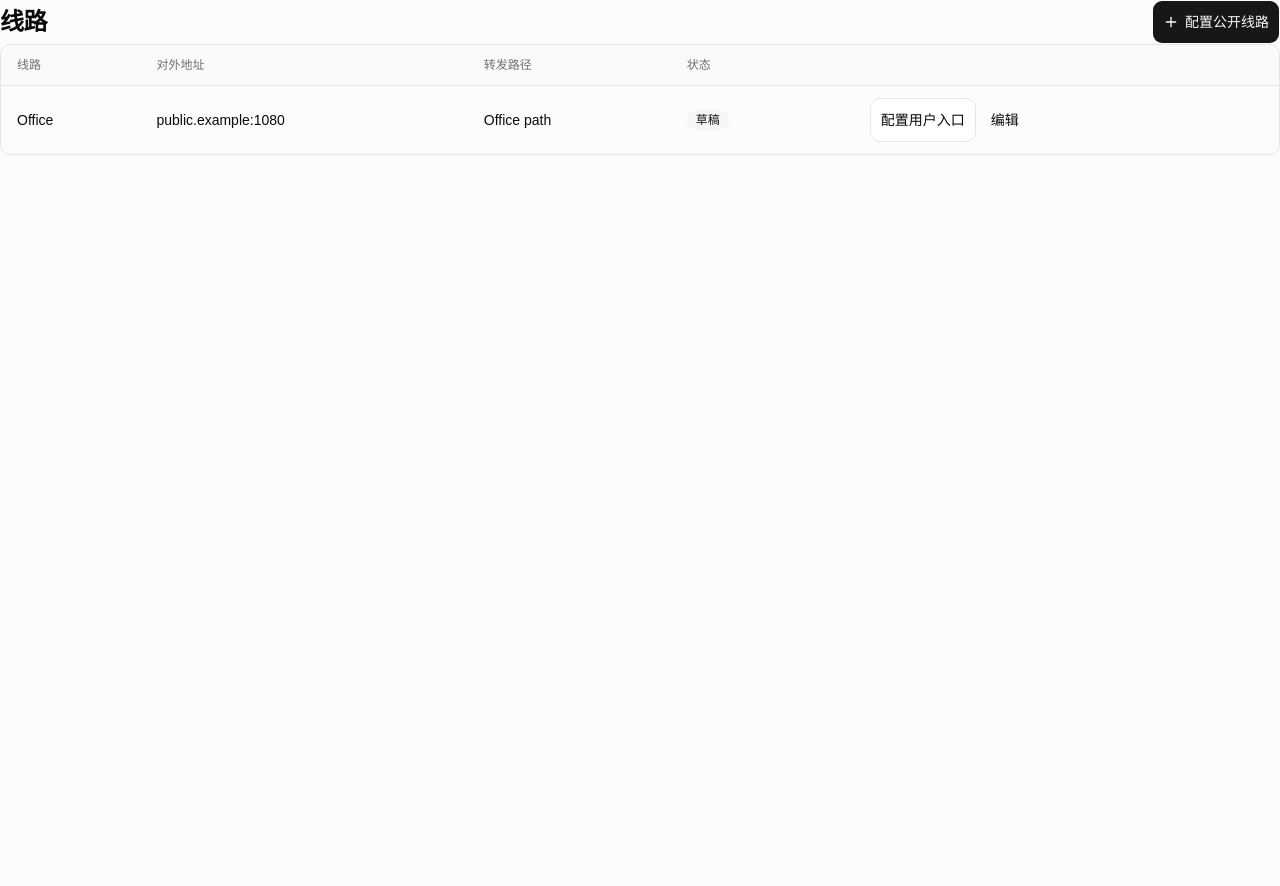
limits public-path selection to its deployment and blocks an unfinished server change after preview
Click the button "编辑". click: coordinates (1005, 120)
box: [980, 98, 1030, 142]
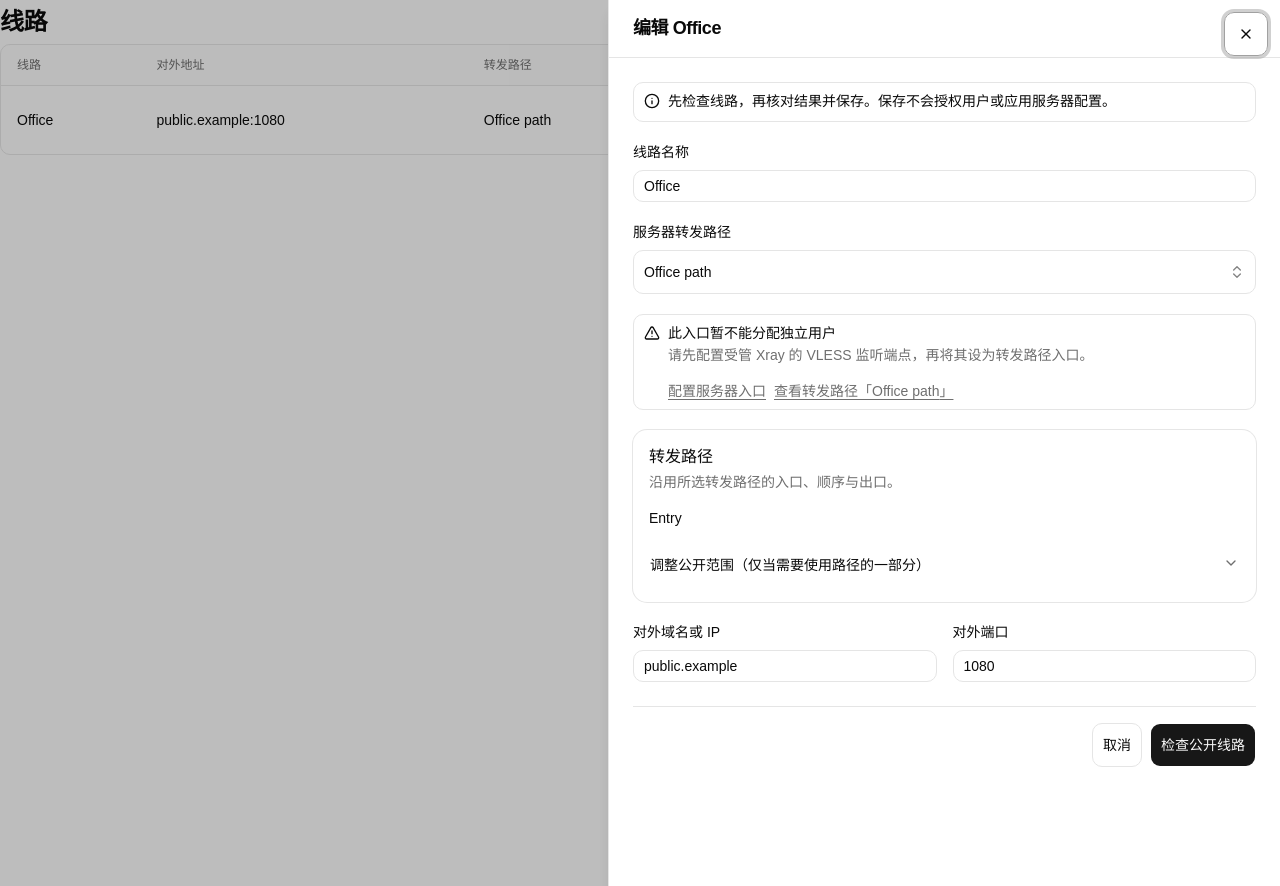
Click the button "检查公开线路". click: coordinates (1203, 745)
box: [1150, 723, 1256, 767]
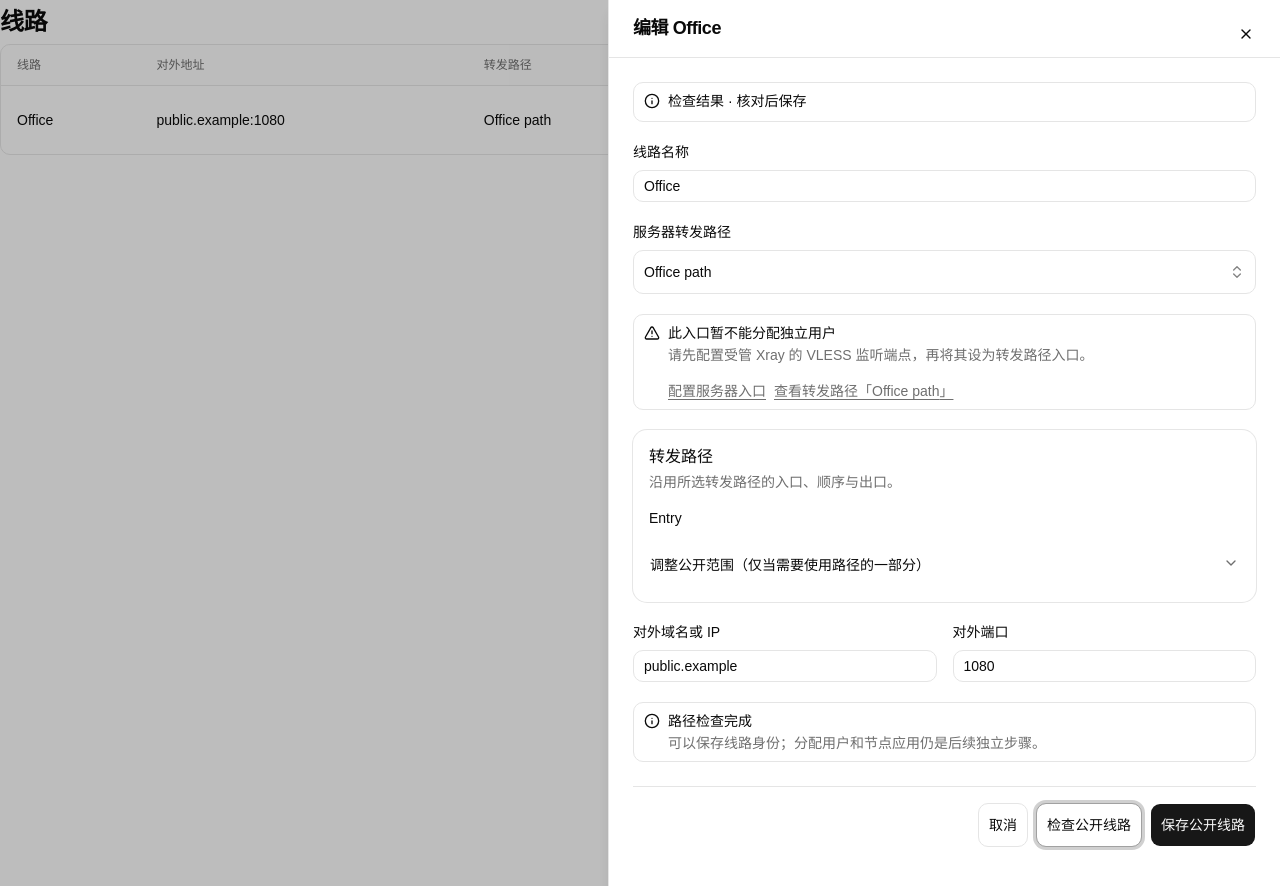
Expected: the button "保存公开线路" is enabled, [1150, 803, 1256, 847]
Click the button "调整公开范围（仅当需要使用路径的一部分）". click: coordinates (790, 565)
box: [649, 544, 1240, 586]
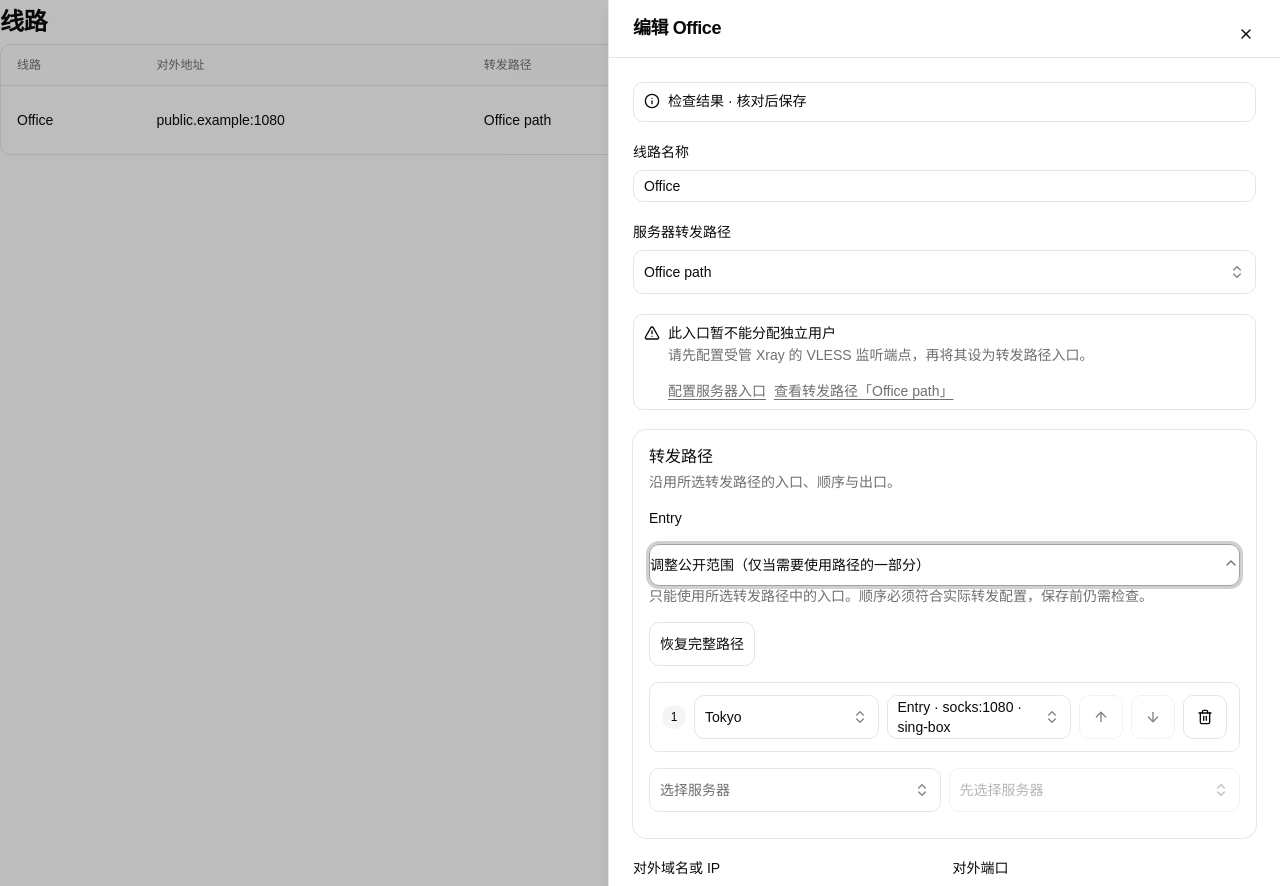
Click the dropdown named "公开路径第 1 跳服务器". click: coordinates (786, 717)
box: [694, 695, 878, 739]
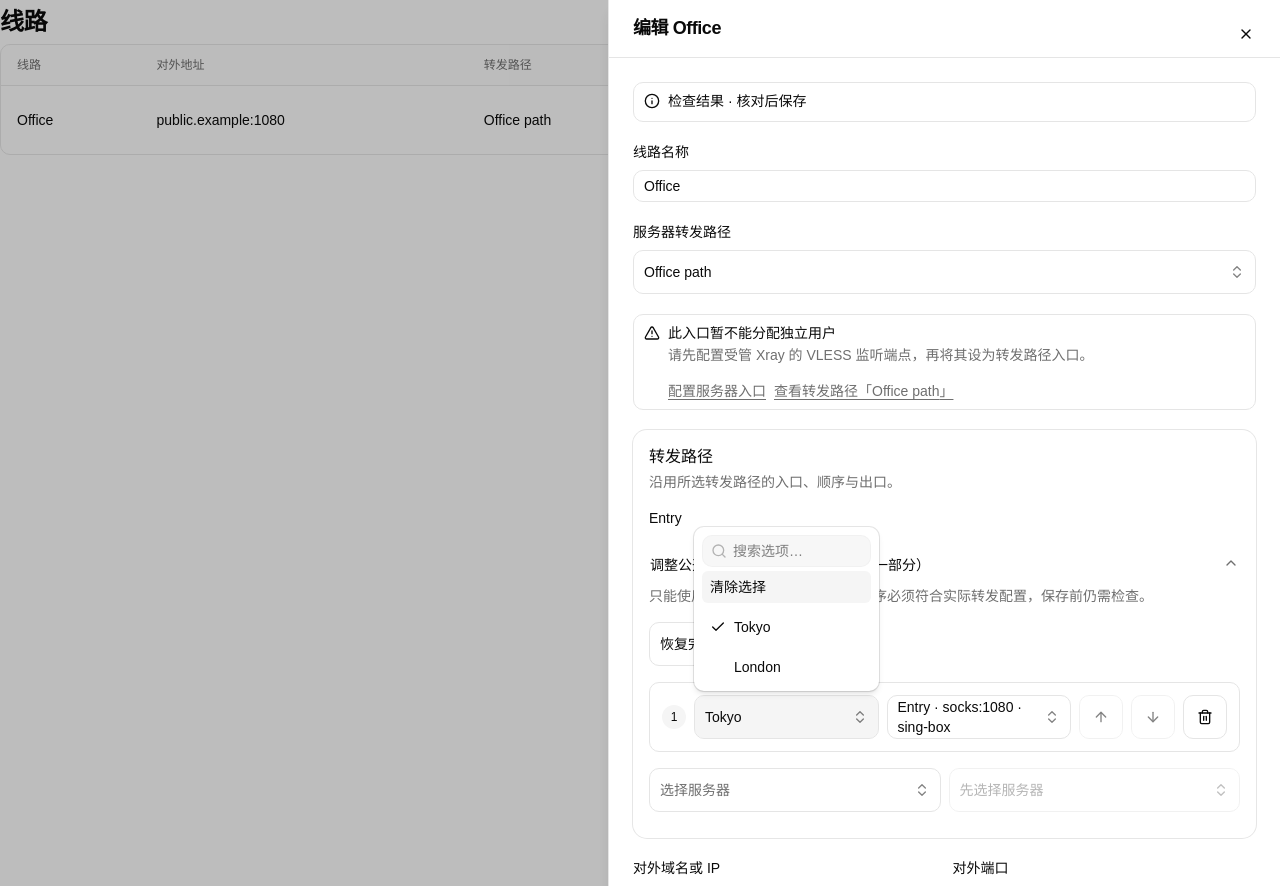
Click the option "London". click: coordinates (757, 667)
box: [734, 659, 781, 675]
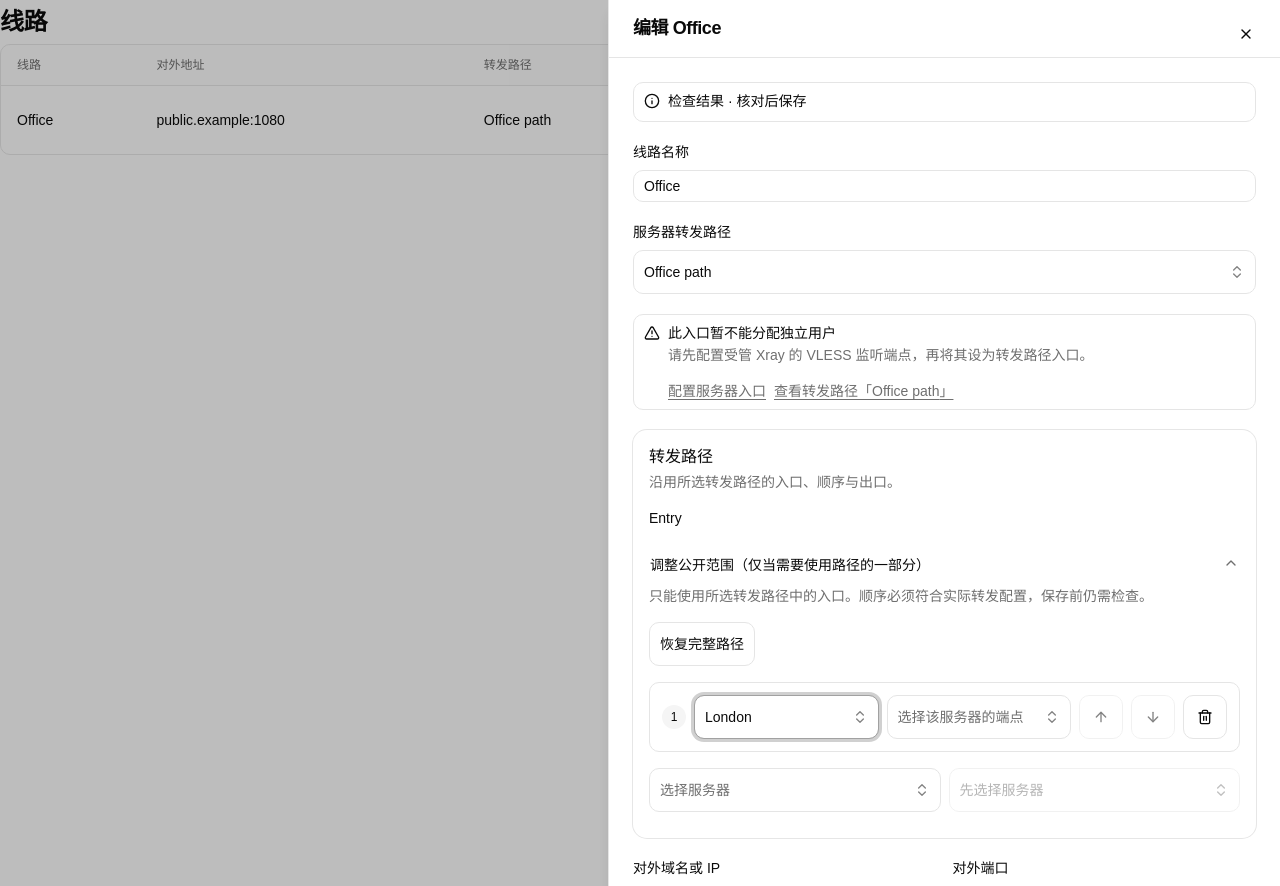
Click the dropdown named "公开路径第 1 跳端点". click: coordinates (979, 717)
box: [886, 695, 1071, 739]
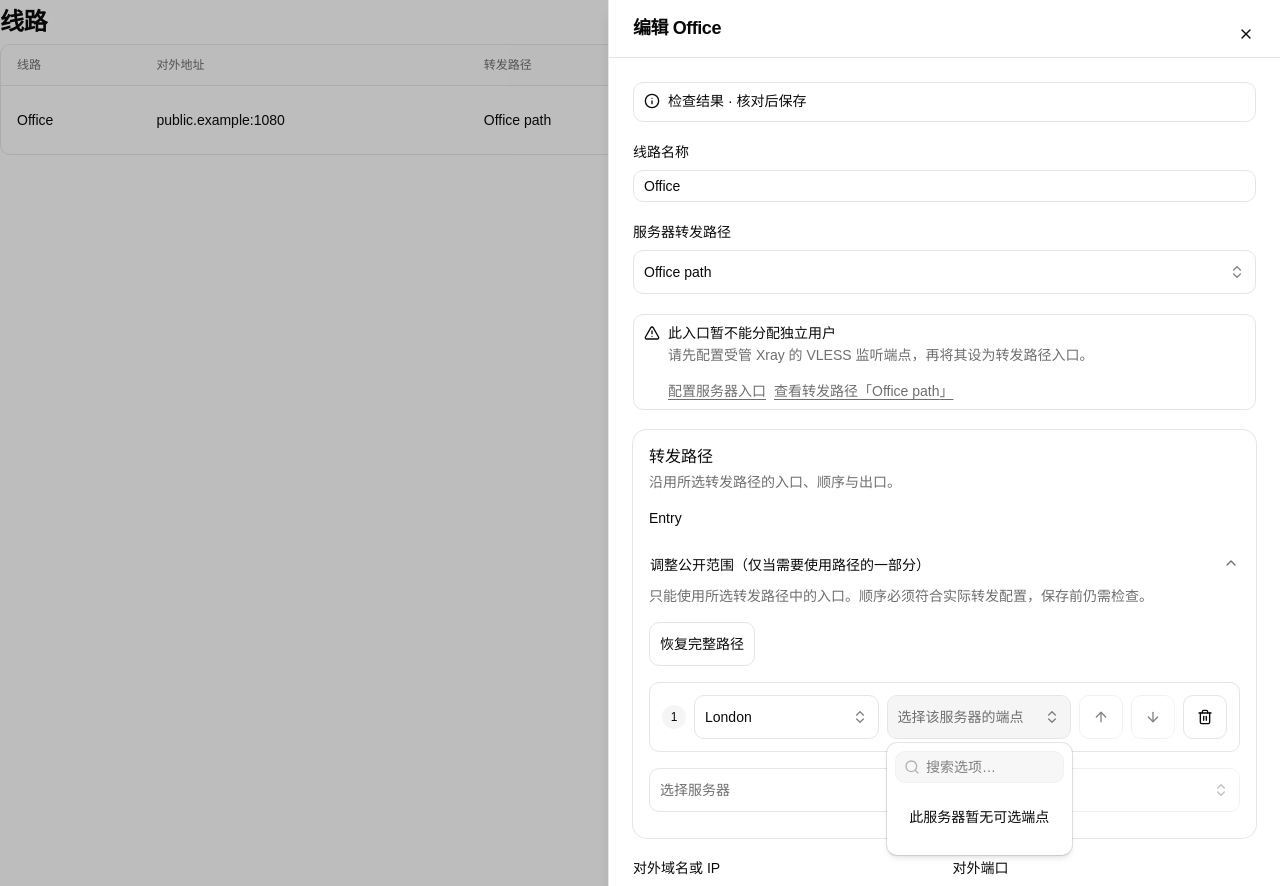
Expected: the text "此服务器暂无可选端点" is shown, [909, 809, 1049, 825]
